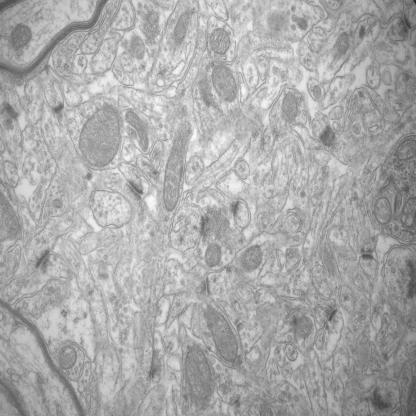mitochondria: (79, 97, 122, 170), (160, 122, 194, 212), (182, 343, 218, 413), (205, 301, 240, 364), (124, 107, 152, 156), (211, 65, 239, 104), (7, 19, 34, 56), (170, 8, 194, 48), (207, 24, 233, 57), (280, 91, 301, 125), (120, 34, 146, 60), (56, 343, 77, 371), (242, 244, 262, 272), (202, 244, 222, 267)
